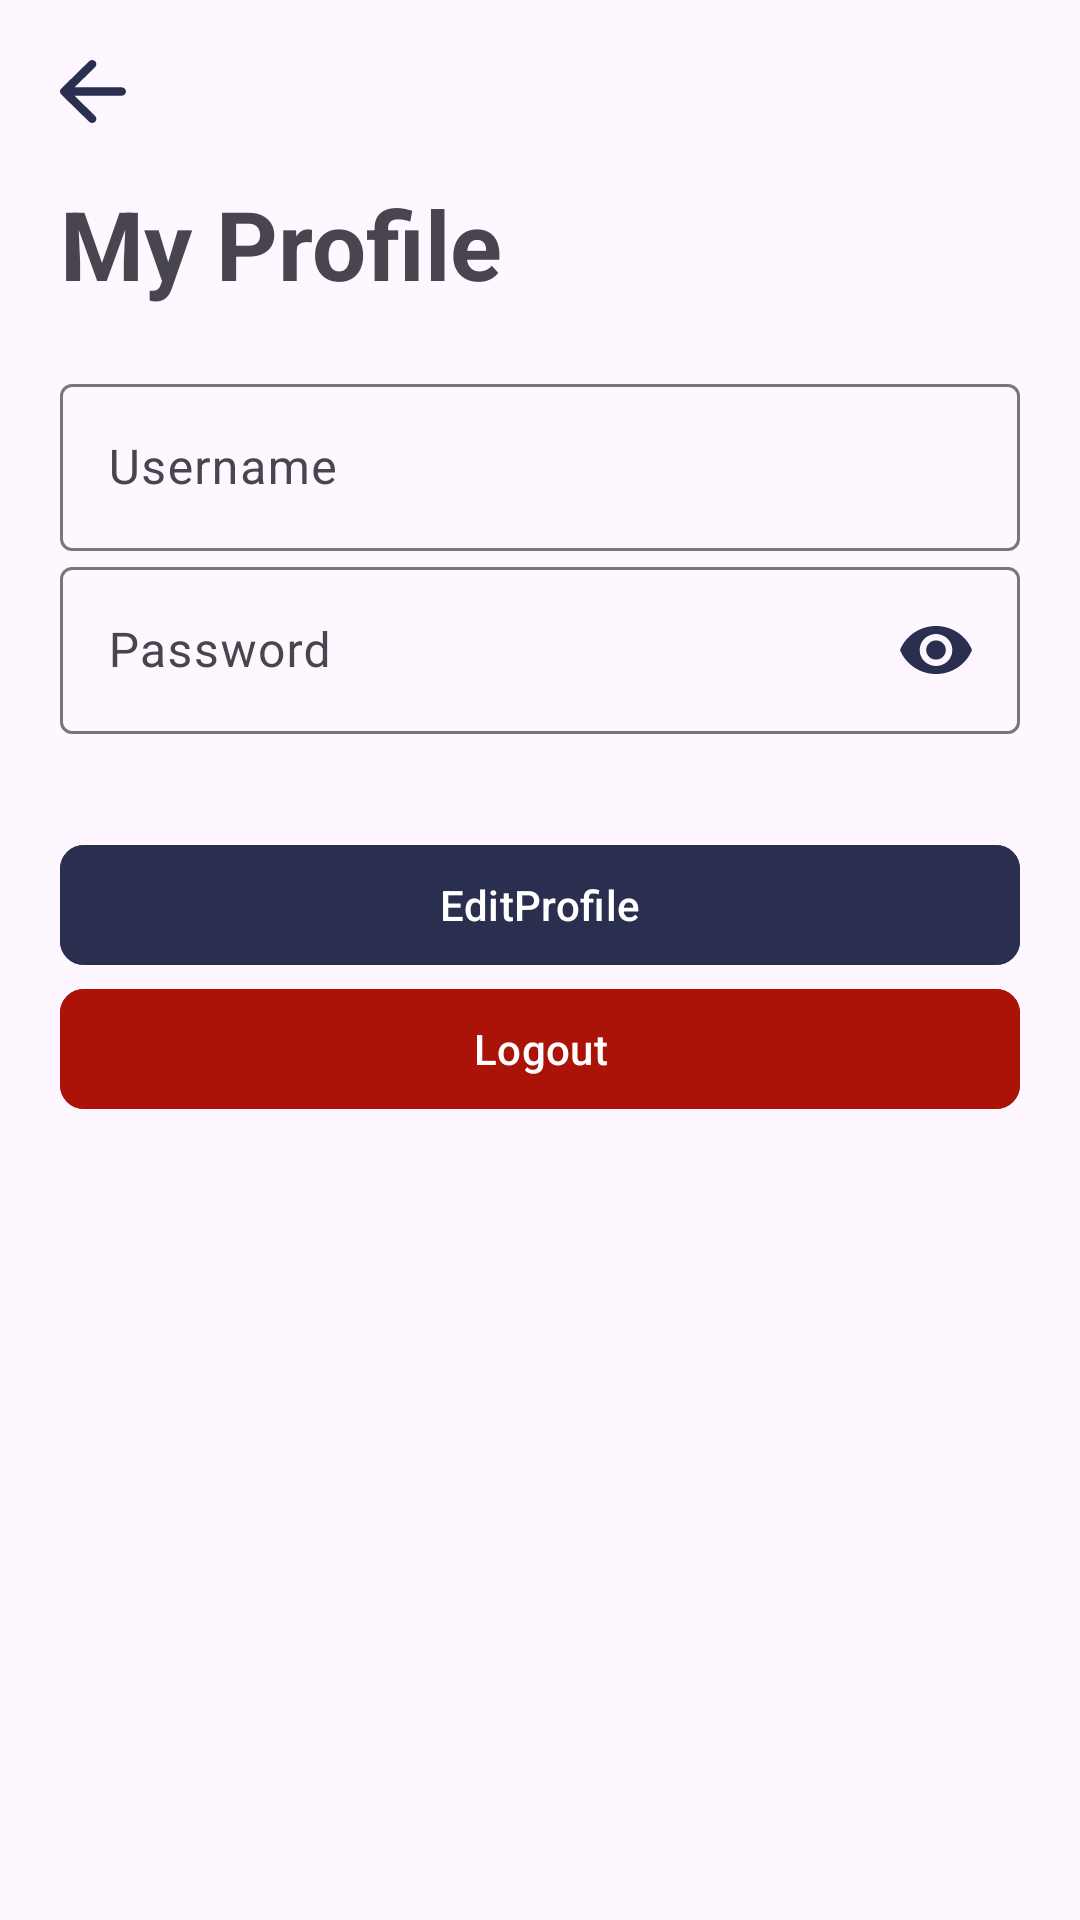

Locate icon controls on the screen. Image size 1080×1920, boxes as (x1, y1, x2, y2).
back: (60, 60, 126, 123)
